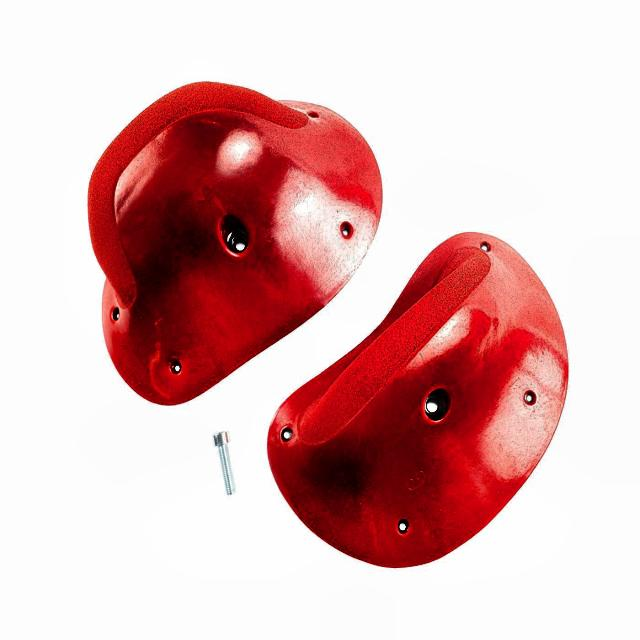Hold: (253, 226, 574, 574), (73, 73, 385, 416)
